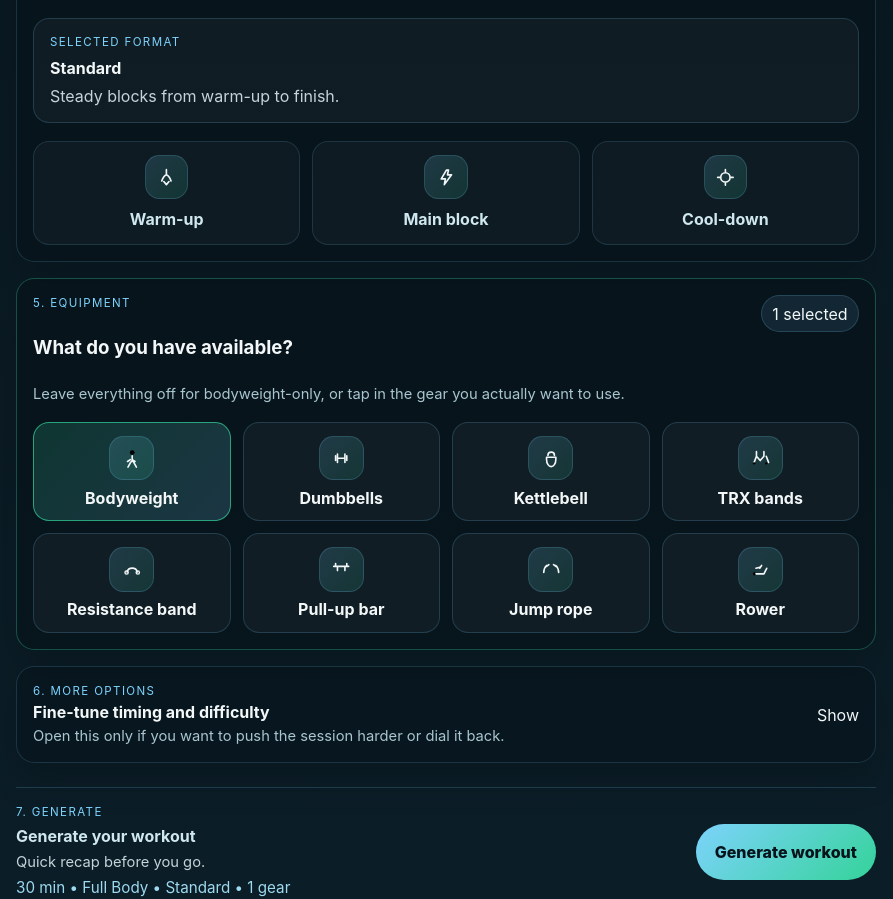
BuilderScreen › keeps more options collapsed by default and reveals advanced controls when expanded
(page scrolled)
Expected: the number field labelled "work seconds" is not shown
Click the button "Fine-tune timing and difficulty" at (94, 691), box [33,683,859,746]
(page scrolled)
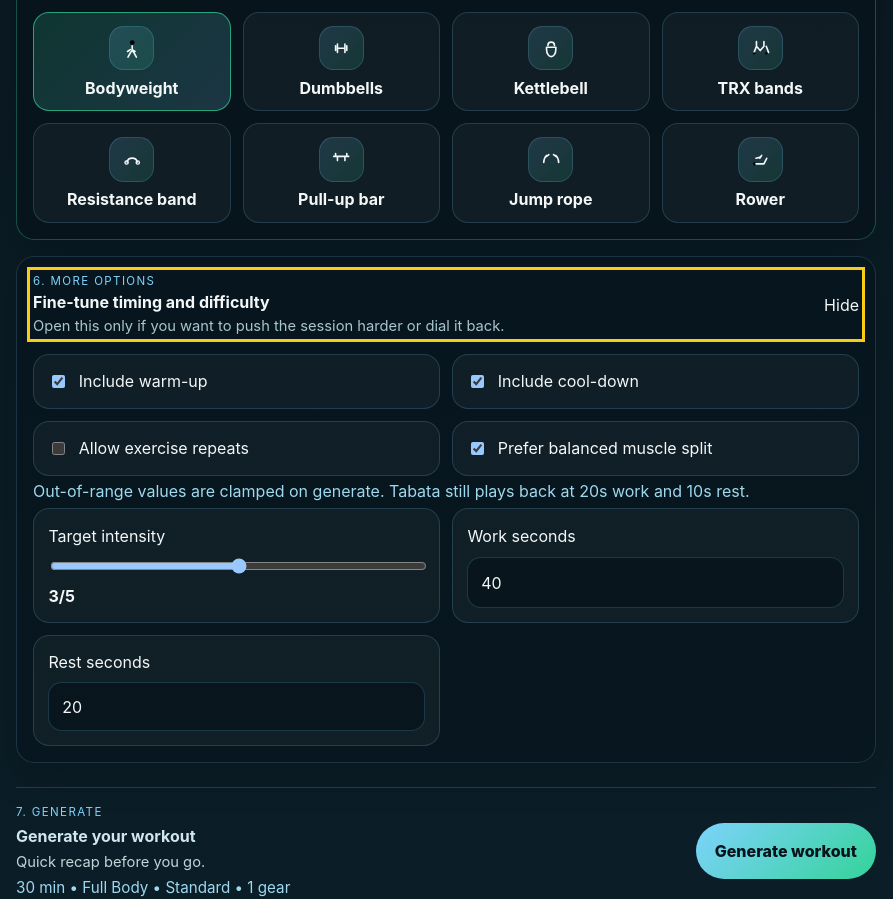
Expected: the number field labelled "Work seconds" is shown, [467,558,844,608]
